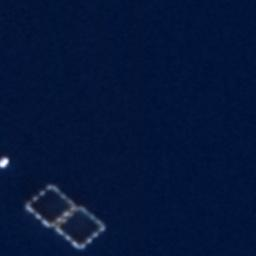square_solid: (20, 180, 81, 232), (52, 202, 109, 252)
